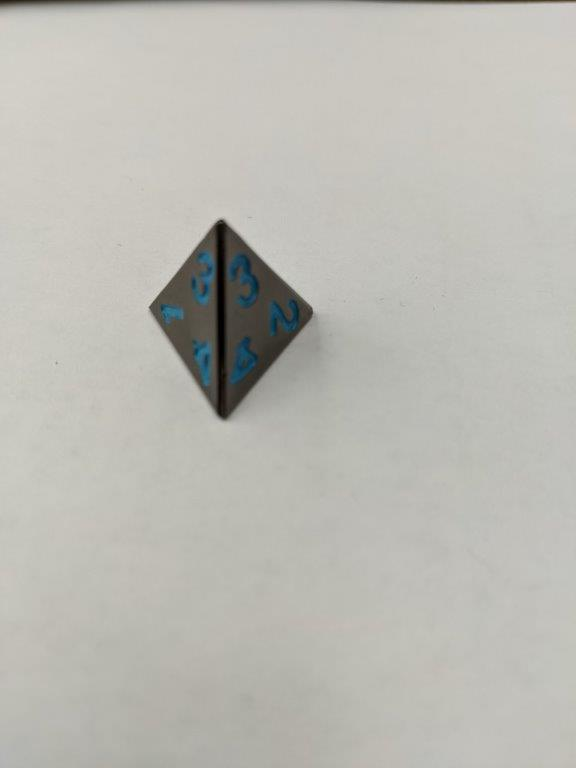d4-3: (143, 216, 318, 422)
